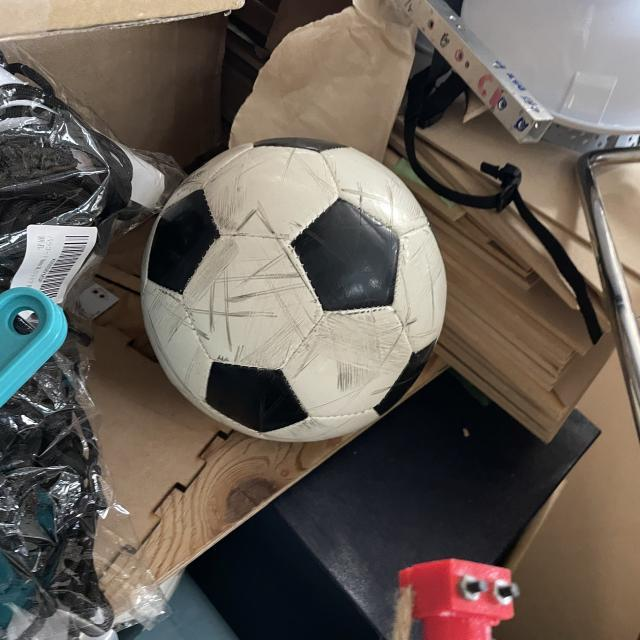ball: (142, 138, 446, 444)
